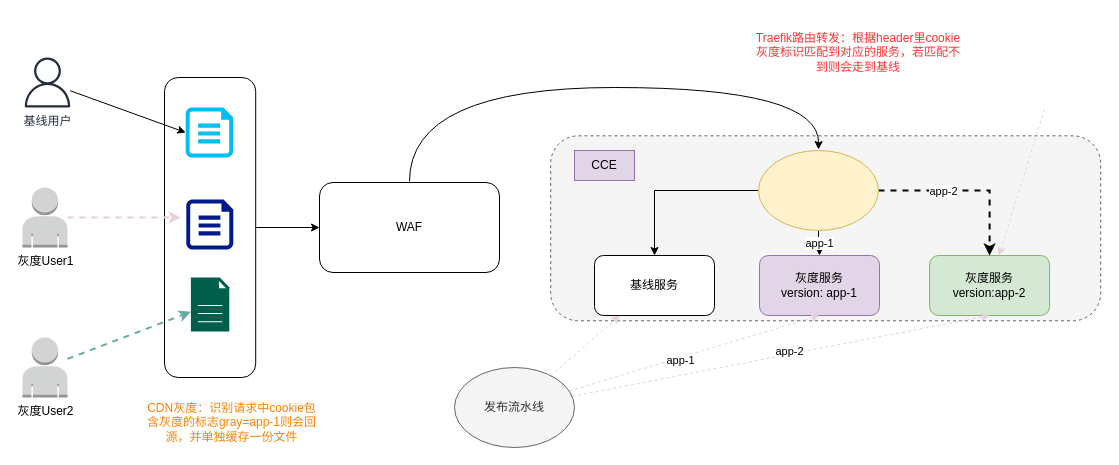
The diagram is 1119 pixels wide and 465 high, and some of its shapes have lost their labels. Here are the shapes that lost their labels. From the top down, the box of each, then its label:
(185, 107, 233, 157): v1.0
(758, 150, 878, 230): Traefik Ingress
(186, 199, 233, 249): v1.1
(190, 277, 229, 331): v1.2
